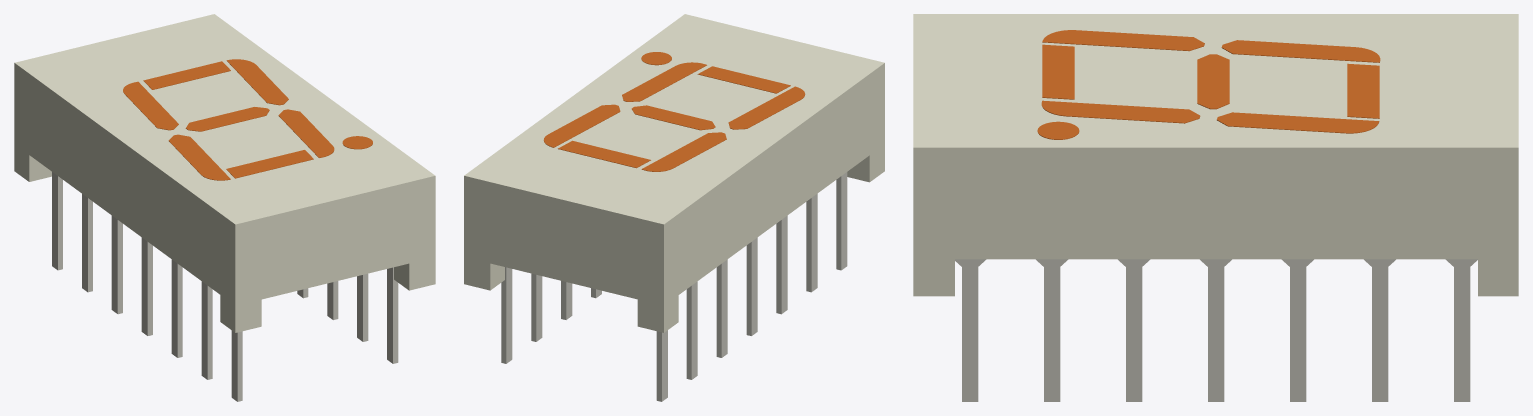
Rendered from kc-man3610a.glb.
The picture shows the model from 3 angles, left to right: view 1: azimuth 30°, elevation 25°; view 2: azimuth 150°, elevation 25°; view 3: azimuth 270°, elevation 25°; orthographic projection. The views are drawn at different scales.
Parts seen in each view (by area): view 1: 0.75_0.75_0.6666666666666666_0, 0.6666666666666666_0.6666666666666666_0.5833333333333334_0.8, 0.5833333333333334_0.16666666666666666_0_0; view 2: 0.75_0.75_0.6666666666666666_0, 0.6666666666666666_0.6666666666666666_0.5833333333333334_0.8, 0.5833333333333334_0.16666666666666666_0_0; view 3: 0.75_0.75_0.6666666666666666_0, 0.6666666666666666_0.6666666666666666_0.5833333333333334_0.8, 0.5833333333333334_0.16666666666666666_0_0.
Part boxes in pixels (bbox=[...]): 0.75_0.75_0.6666666666666666_0: bbox=[14, 14, 435, 332]; 0.6666666666666666_0.6666666666666666_0.5833333333333334_0.8: bbox=[52, 172, 398, 401]; 0.5833333333333334_0.16666666666666666_0_0: bbox=[123, 59, 372, 180]; 0.75_0.75_0.6666666666666666_0: bbox=[464, 14, 884, 332]; 0.6666666666666666_0.6666666666666666_0.5833333333333334_0.8: bbox=[501, 172, 847, 401]; 0.5833333333333334_0.16666666666666666_0_0: bbox=[543, 52, 805, 171]; 0.75_0.75_0.6666666666666666_0: bbox=[913, 14, 1518, 296]; 0.6666666666666666_0.6666666666666666_0.5833333333333334_0.8: bbox=[955, 259, 1477, 401]; 0.5833333333333334_0.16666666666666666_0_0: bbox=[1037, 30, 1380, 139].
Bounding box in the file's own units: 0.98 × 0.916 × 1.88.
